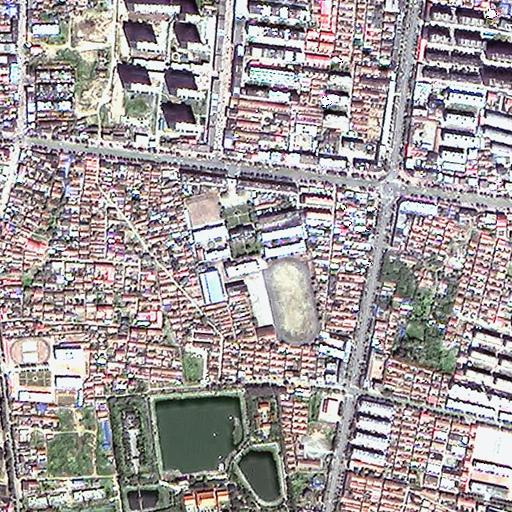school: (188, 180, 321, 343), (2, 332, 85, 401)
